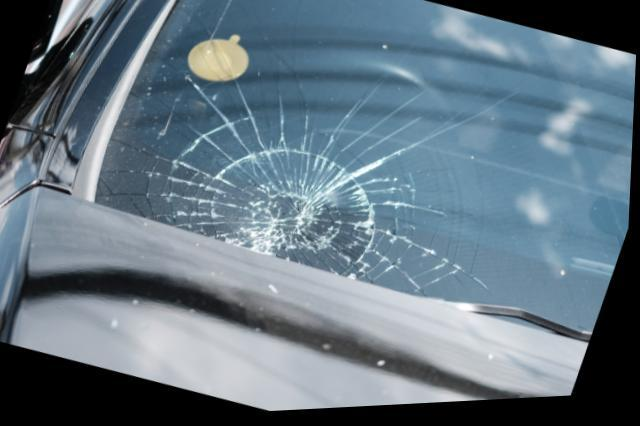glass shatter: (96, 0, 637, 340)
